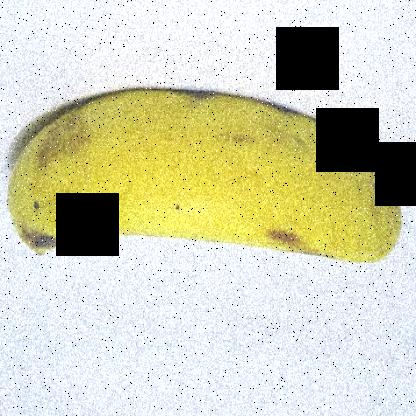freshripe: (1, 69, 409, 283)
